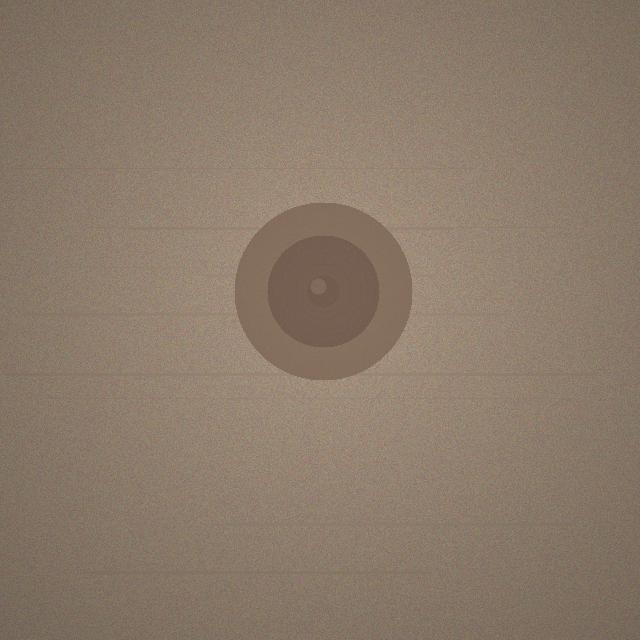good: (234, 202, 412, 380)
